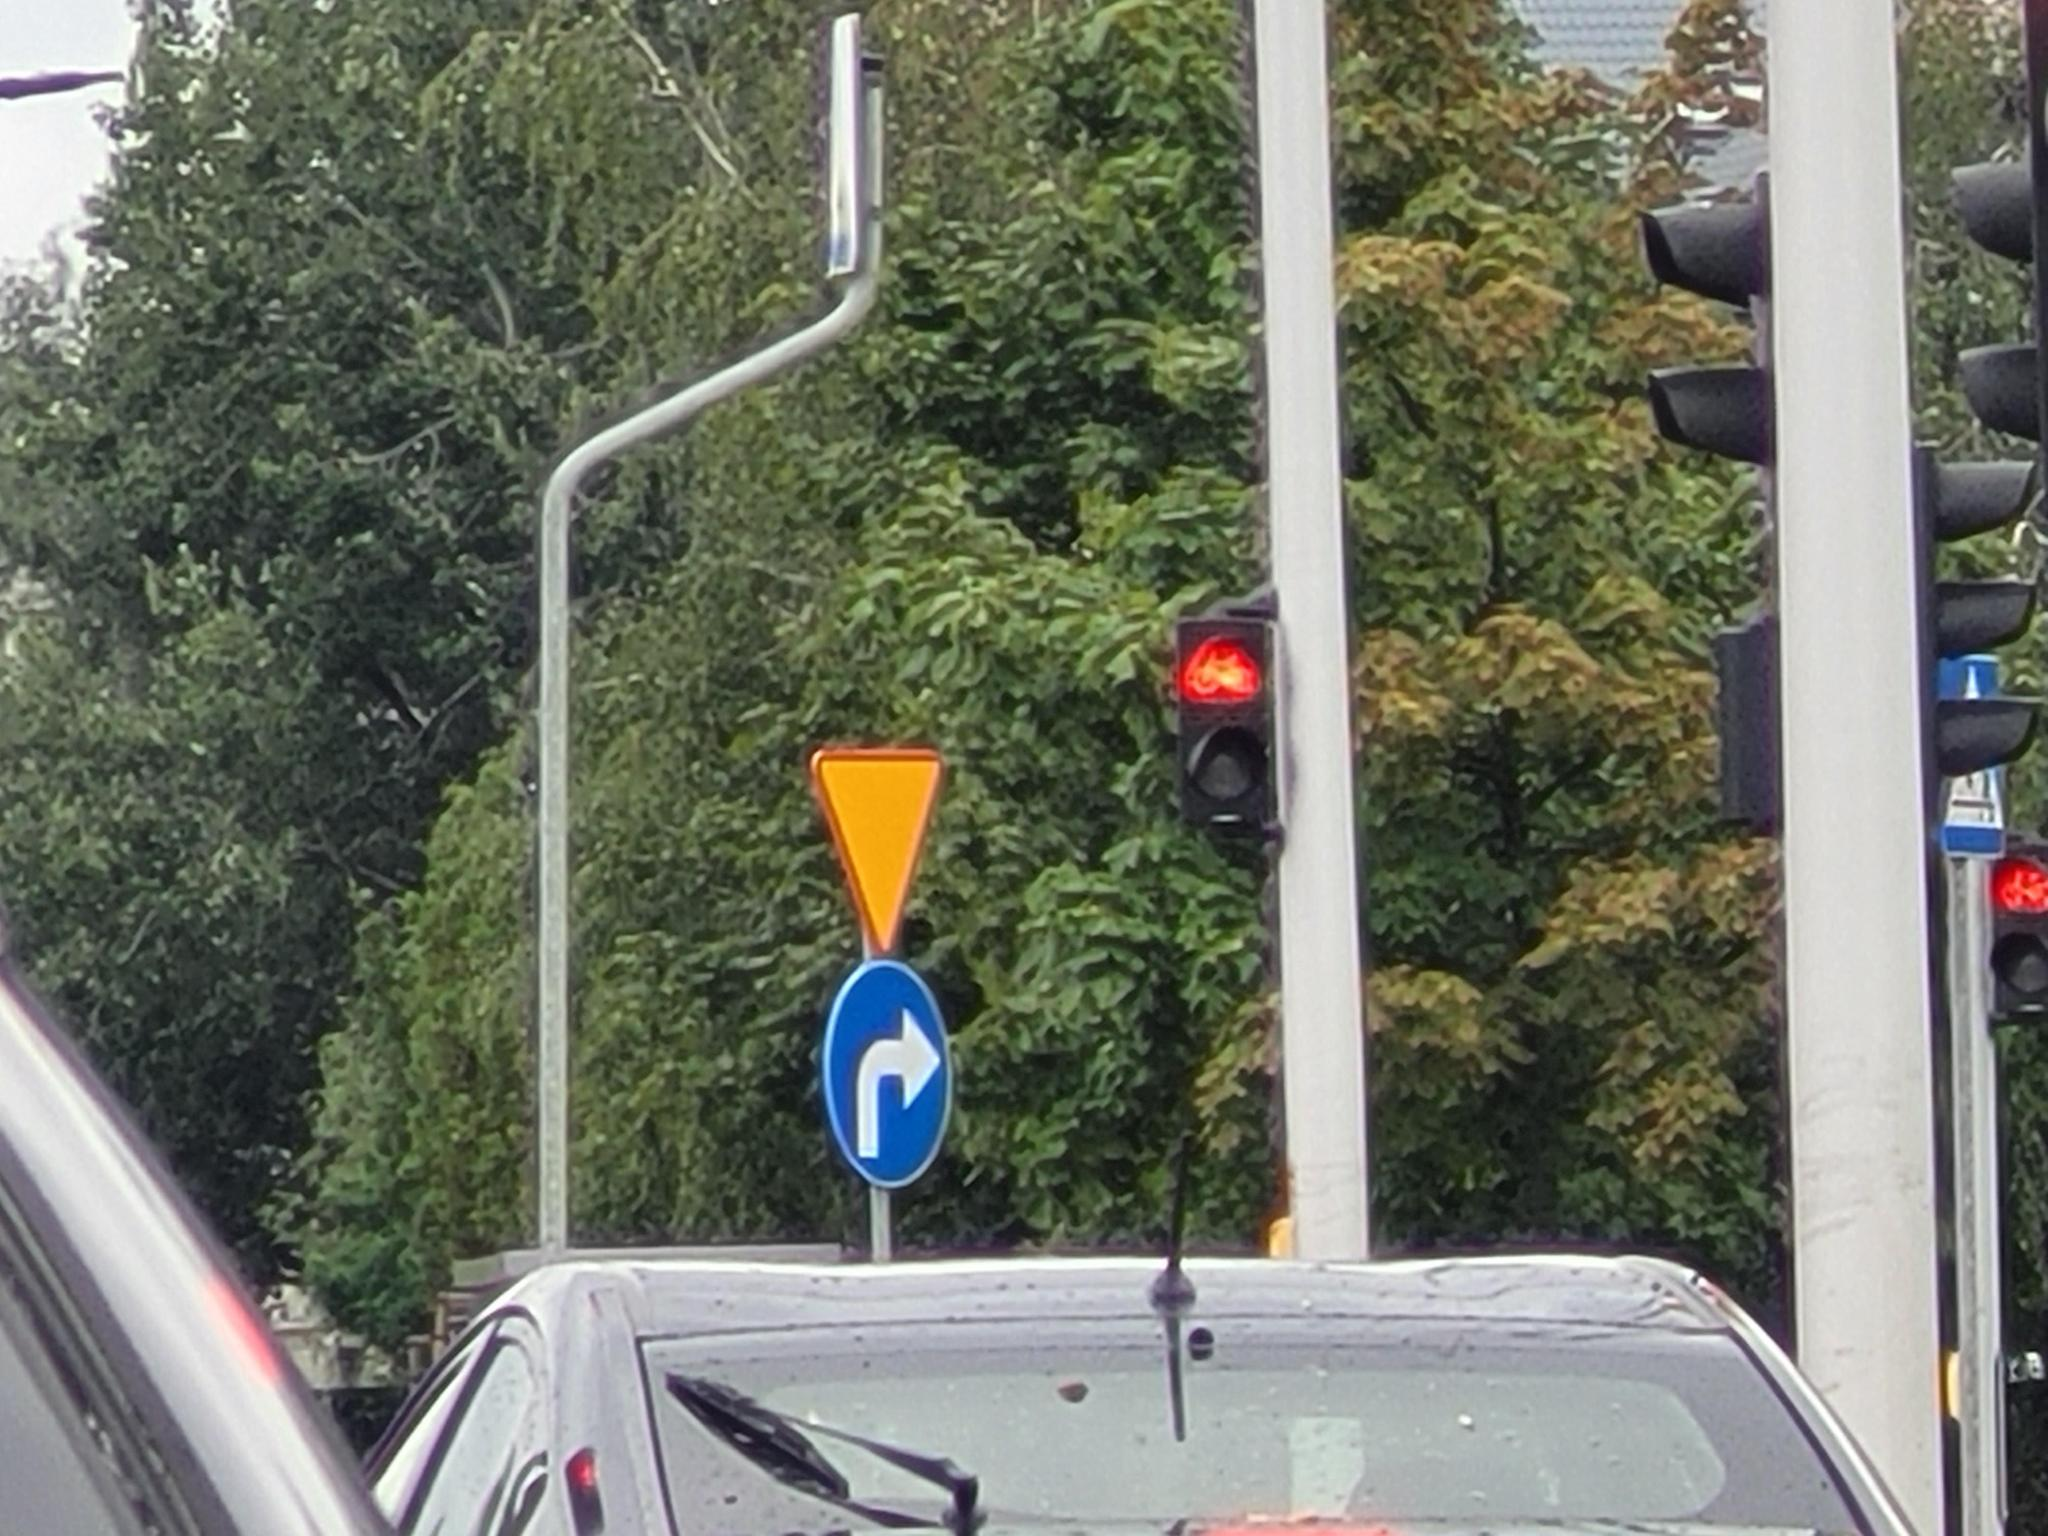mandatory: (822, 960, 953, 1191)
warning: (811, 747, 942, 952)
